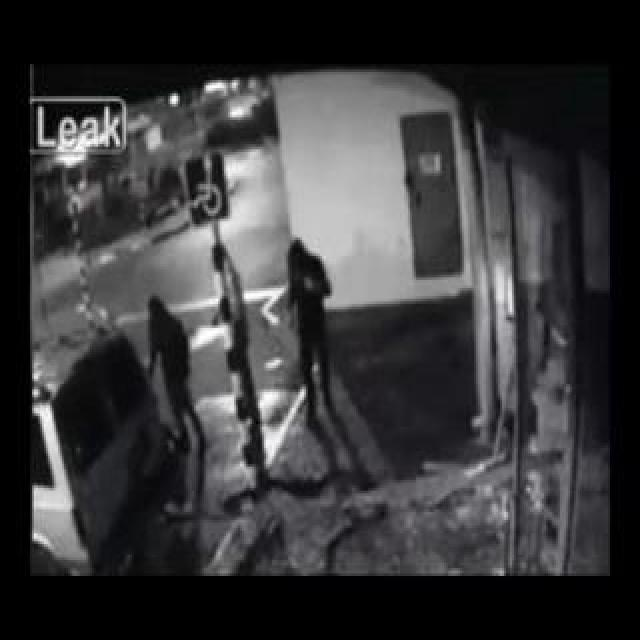thief: (137, 236, 322, 378)
